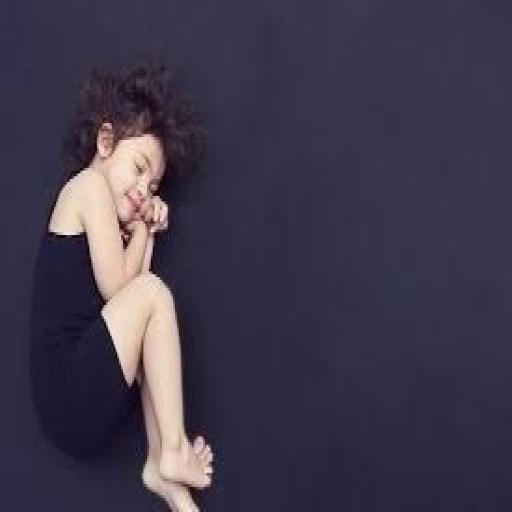sleeping: (28, 59, 218, 509)
